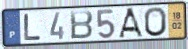4: (49, 11, 66, 41)
5: (95, 7, 117, 39)
A: (117, 7, 145, 39)
B: (69, 10, 94, 41)
L: (23, 13, 43, 42)
O: (143, 6, 168, 38)
